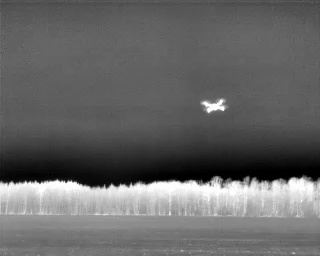DRONE: (198, 94, 232, 119)
